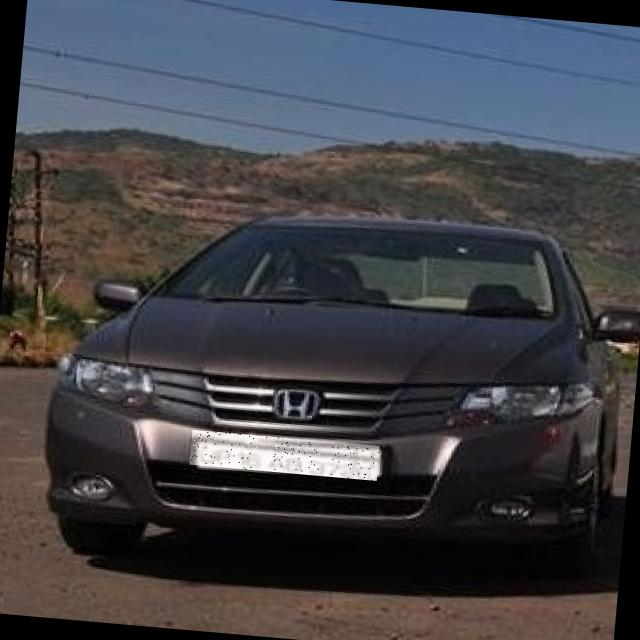Plate: (190, 431, 380, 482)
